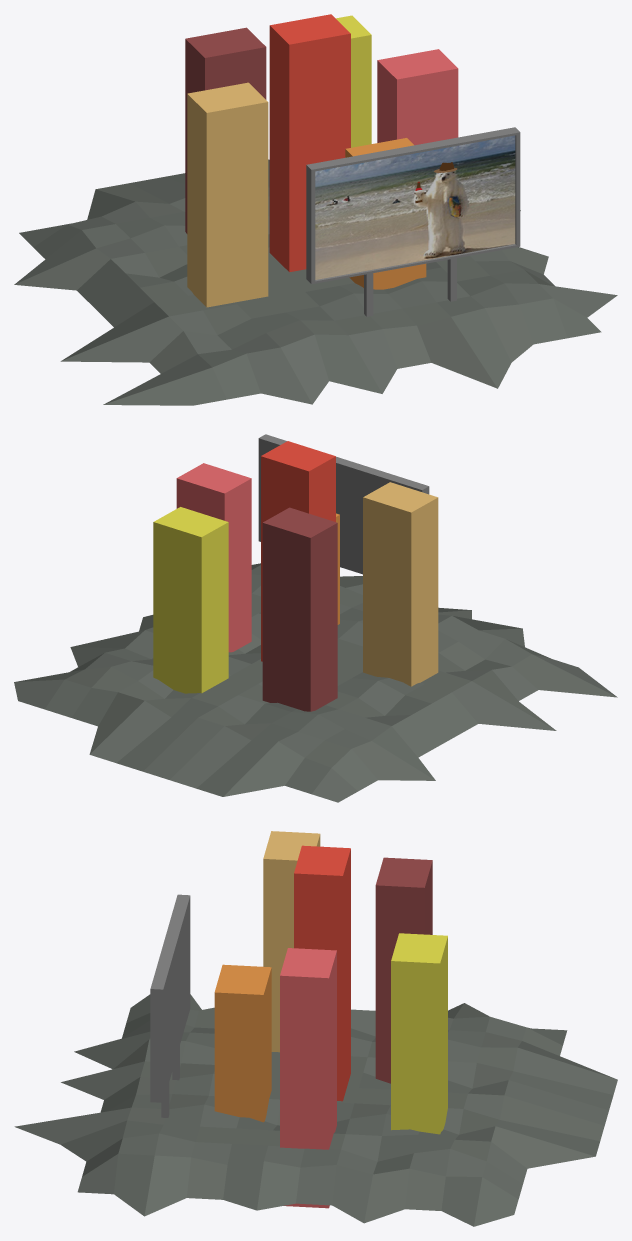
Rendered from building2.glb.
3 views of the same model, one above another, from view 1: azimuth 30°, elevation 25°; view 2: azimuth 150°, elevation 25°; view 3: azimuth 270°, elevation 25° (orthographic). The views are drawn at different scales.
Parts seen in each view (by area): view 1: Plane.002, Cube.008, Cube.004, Cube, Cube.002, Cube.001, Cube.003, Cube.005; view 2: Plane.002, Cube.001, Cube.004, Cube.003, Cube.002, Cube, Cube.008; view 3: Plane.002, Cube.002, Cube.003, Cube.005, Cube, Cube.001, Cube.008, Cube.004.
Part boxes in pixels (x1,y1,x2,y2): Plane.002: (14,159,617,405); Cube.008: (306,127,520,284); Cube.004: (187,82,268,307); Cube: (269,14,350,272); Cube.002: (377,49,458,145); Cube.001: (185,27,266,233); Cube.003: (336,15,371,147); Cube.005: (345,138,426,289); Plane.002: (14,563,617,802); Cube.001: (262,507,337,711); Cube.004: (363,482,438,686); Cube.003: (153,507,228,693); Cube.002: (176,463,251,652); Cube: (261,441,335,661); Cube.008: (258,434,429,574); Plane.002: (14,994,617,1226); Cube.002: (280,948,336,1208); Cube.003: (391,933,447,1134); Cube.005: (214,964,271,1122); Cube: (294,845,350,1101); Cube.001: (375,857,432,1083); Cube.008: (150,894,190,1102); Cube.004: (263,831,320,1052).
Size of the model in its own units: 170 by 89.55 by 173.
Materials: 12 (1 with a texture image).
